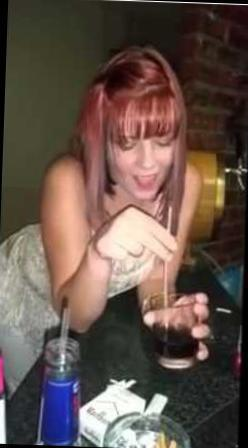Drunk: (107, 123, 174, 207)
